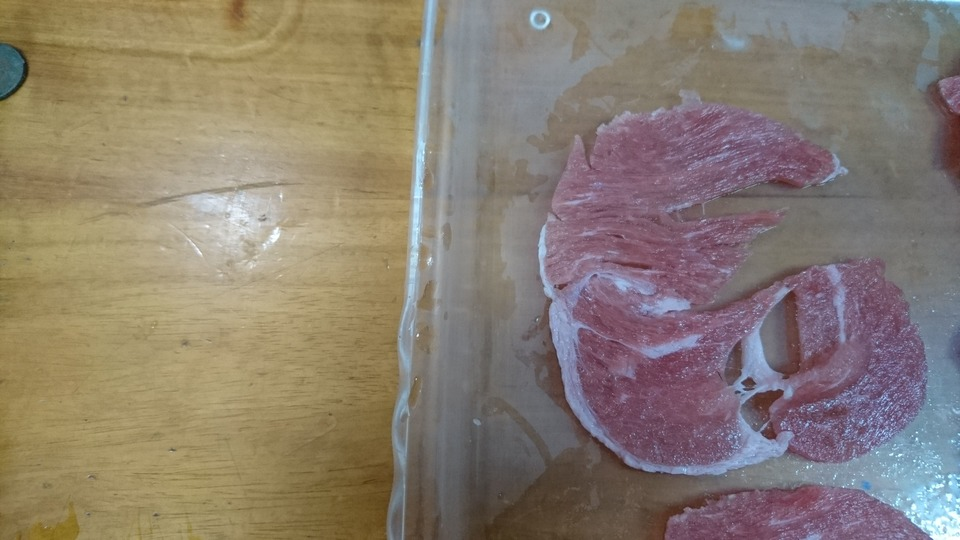restructured meat: (549, 102, 931, 472), (671, 480, 924, 540)
